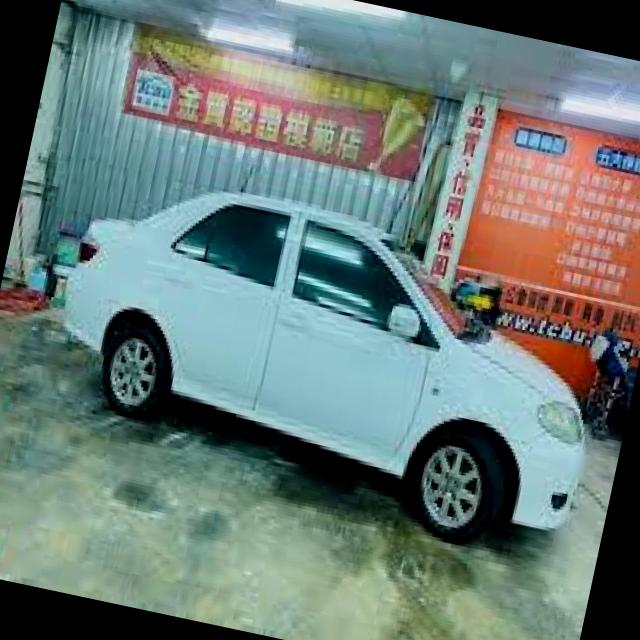ToyotaVios: (29, 155, 626, 566)
